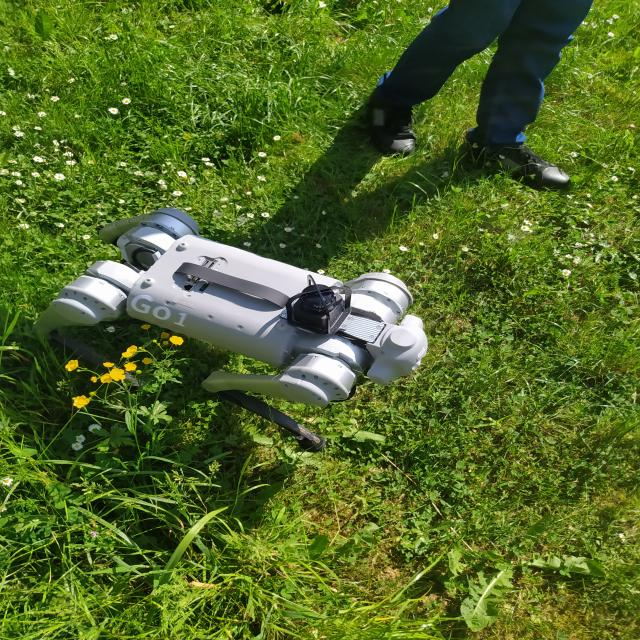unitree-go1-robot: (35, 202, 437, 466)
